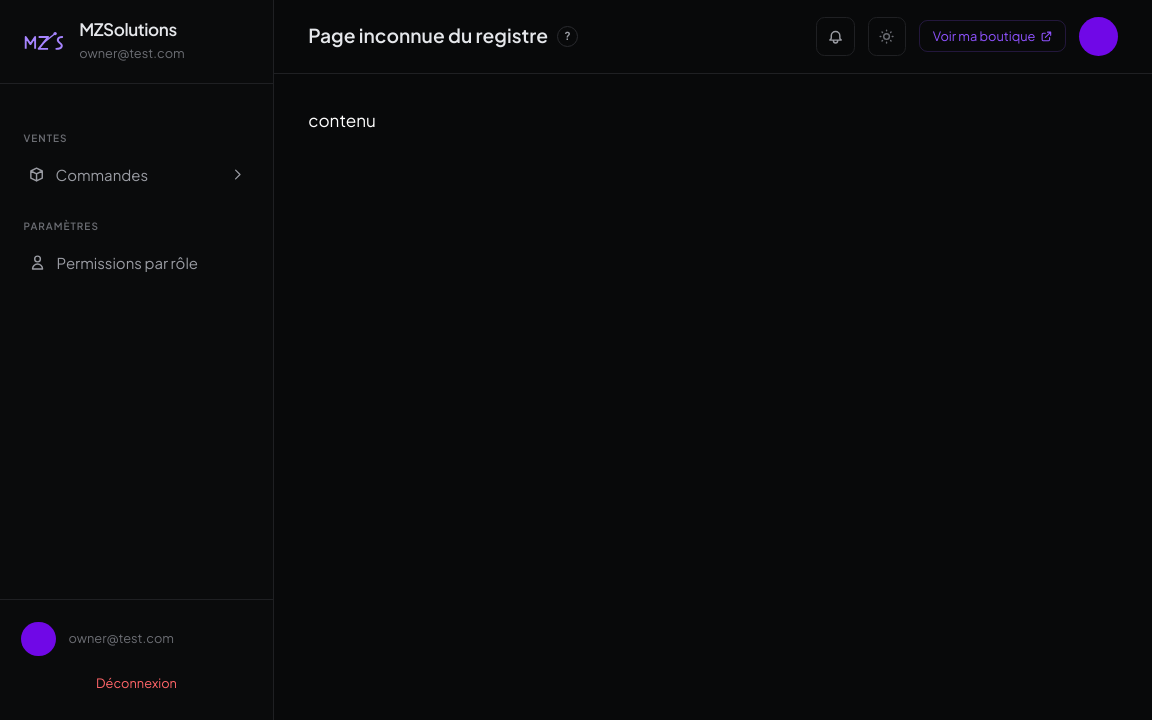
Scenario: DashboardLayout — sidebar gated by permissions › retombe sur le subtitle de la page si le registre n'a aucune entrée pour cette route
The image size is (1152, 720).
Step 1. Click the button named "Informations sur cette page" → (567, 36), box [557,26,578,47]
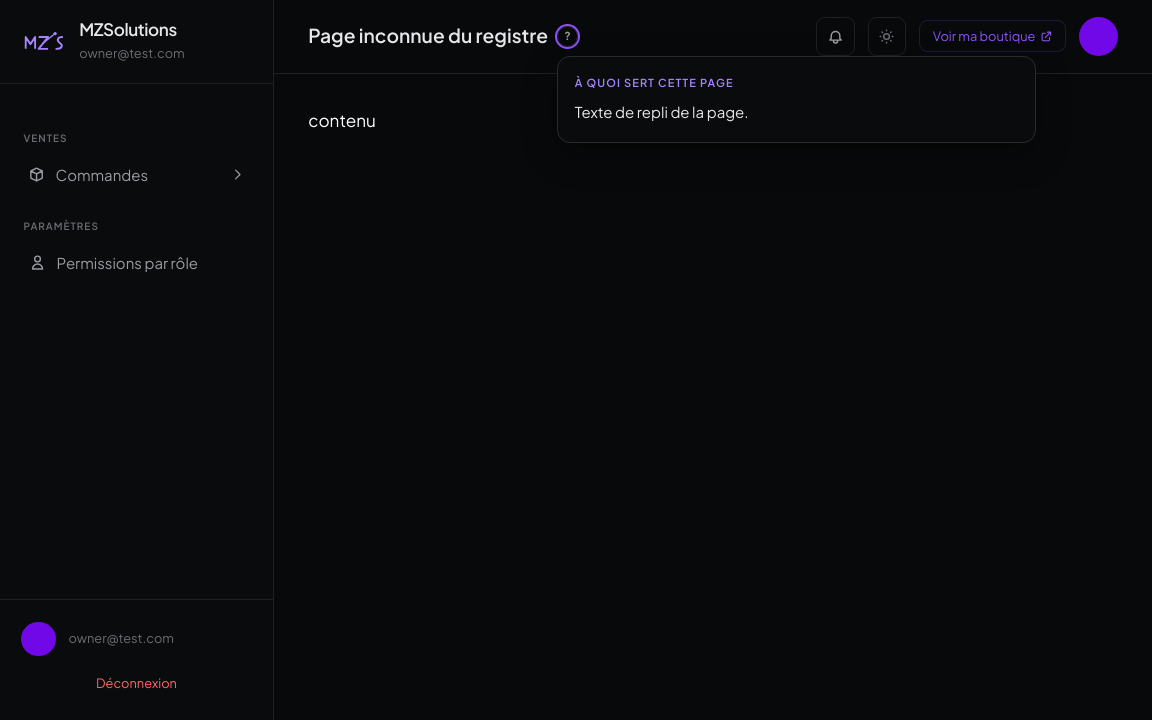
Check: the text "Texte de repli de la page." is shown, box [575,102,749,121]
